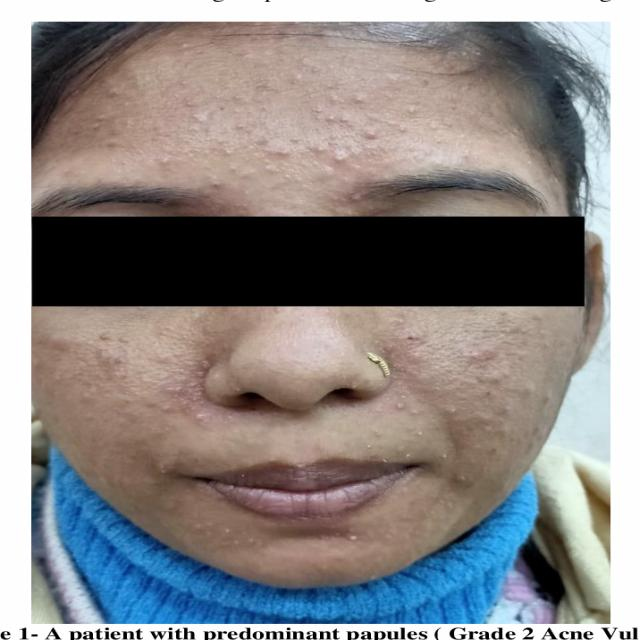acne: (45, 57, 445, 191), (376, 316, 553, 501), (26, 333, 237, 427)
